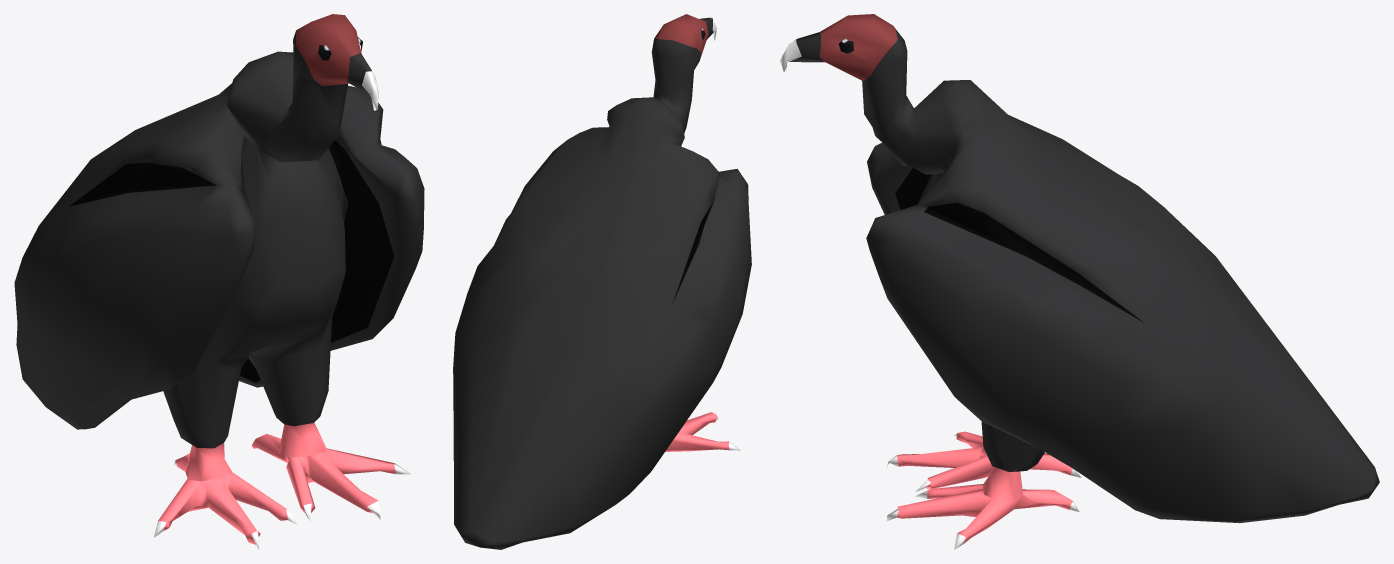
Rendered from TurkeyVulture.glb.
The picture shows the model from 3 angles, left to right: view 1: azimuth 30°, elevation 25°; view 2: azimuth 150°, elevation 25°; view 3: azimuth 270°, elevation 25°; orthographic projection. The views are drawn at different scales.
Visible parts, largest first — view 1: TurkeyVulture; view 2: TurkeyVulture; view 3: TurkeyVulture.
Part boxes in pixels (box(x1,y1,x2,y2)): TurkeyVulture: box(14, 14, 424, 549); TurkeyVulture: box(453, 14, 751, 549); TurkeyVulture: box(780, 14, 1379, 549).
Size of what is drawn, in the model's own units: 0.521 by 0.8171 by 0.9307.
Materials: 1 (1 with a texture image).
